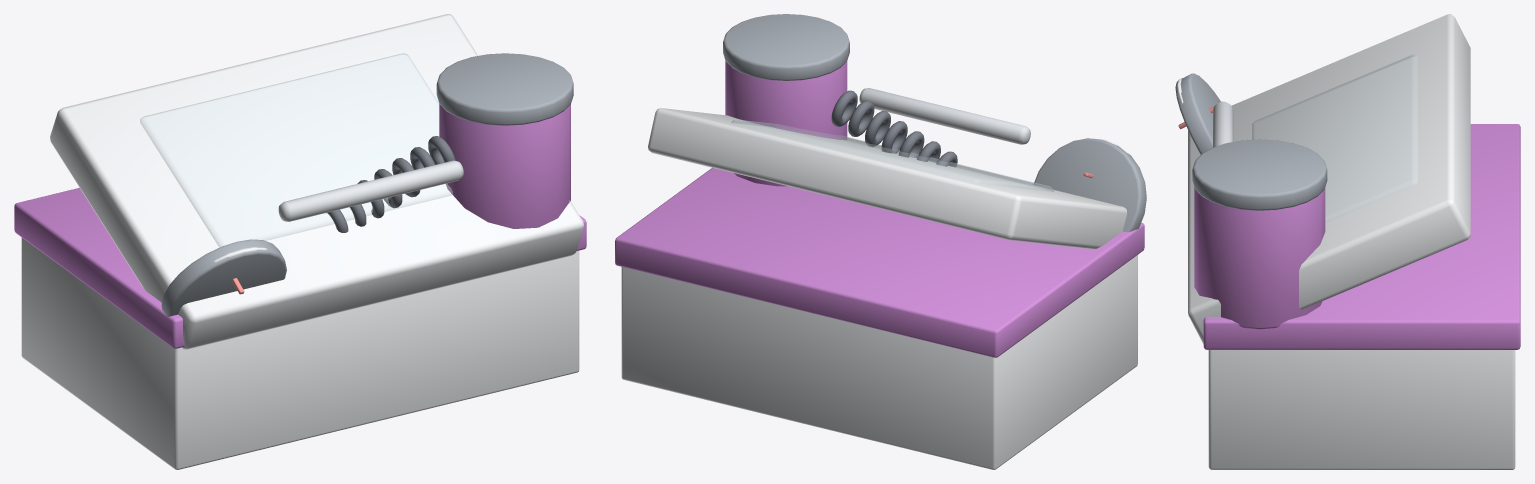
The model's file is VacuumSealer.glb.
The picture shows the model from 3 angles, left to right: view 1: azimuth 30°, elevation 25°; view 2: azimuth 150°, elevation 25°; view 3: azimuth 270°, elevation 25°; orthographic projection. The views are drawn at different scales.
Parts seen in each view (by area): view 1: shell, lid; view 2: shell, lid; view 3: shell, lid.
Part boxes in pixels (box(x1,y1,x2,y2)): shell: box(14, 53, 586, 469); lid: box(50, 14, 583, 349); shell: box(615, 14, 1146, 469); lid: box(648, 88, 1127, 249); shell: box(1175, 73, 1520, 469); lid: box(1188, 14, 1470, 344).
Bounding box in the file's own units: 2.34 × 1.52 × 1.69.
